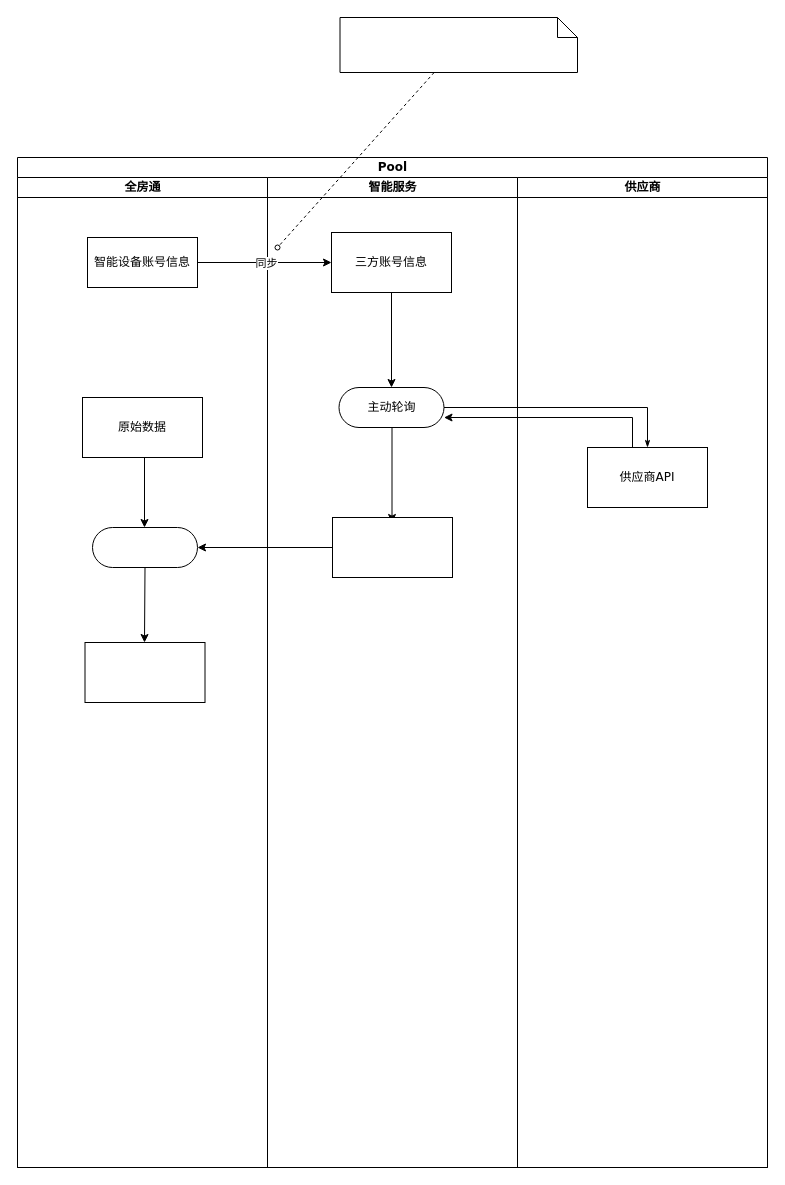
Image size: 785x1185. Some labels were removed from this diagram. The shapes that lost their labels are listed below. From the top down, each one's centre as x and y in pixels, then its label:
the point at 458,44: 灰度商户：手动触发同步 新开商户：通过账户授权触发同步
the point at 145,547: 房源与设备映射关系重建
the point at 392,547: 设备业务数据
the point at 144,672: 新版业务数据表
